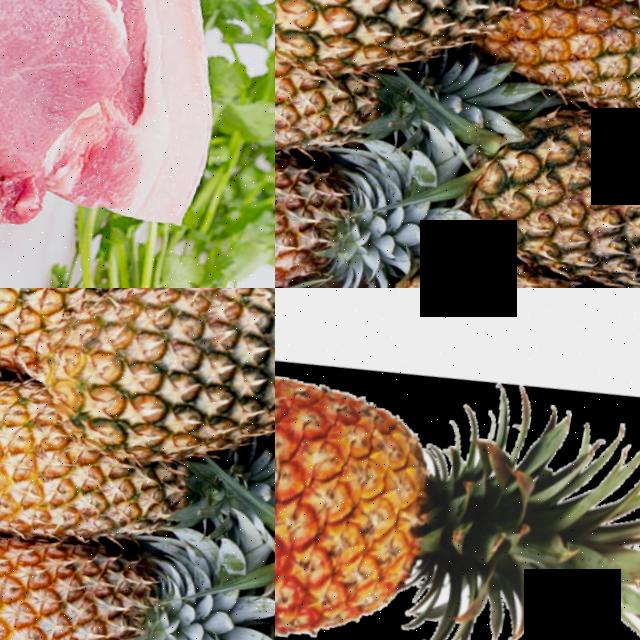pineapple: (275, 320, 551, 640), (34, 288, 275, 496), (0, 421, 220, 572), (470, 99, 640, 288), (275, 0, 564, 108), (0, 517, 193, 640), (492, 0, 640, 149), (275, 33, 411, 184), (275, 129, 384, 288), (354, 232, 640, 288)
pork belly: (0, 0, 264, 249)
